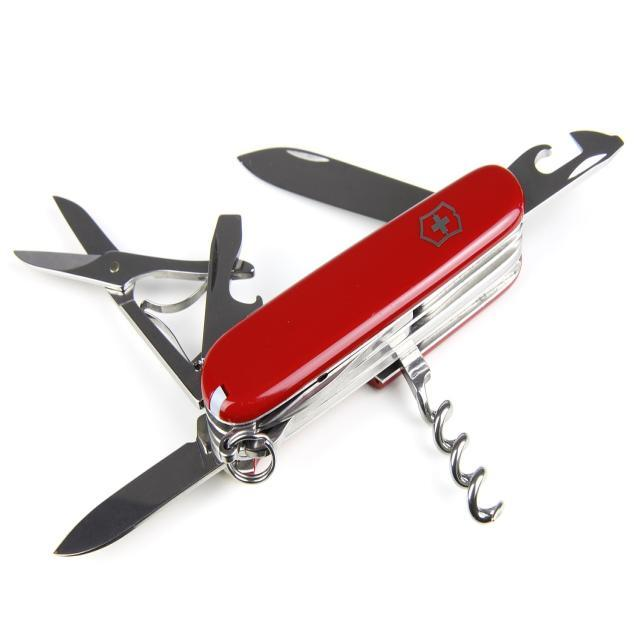Knife: (16, 131, 622, 555)
